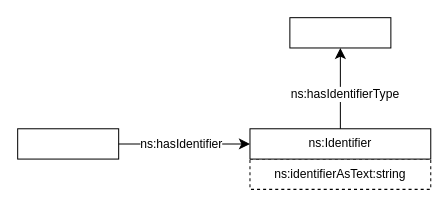
This 448x207 diagram has some shape labels left out. The shapes that lost their labels are listed below. From the top down, each one's centre as x and y in pixels, then its label:
the point at 340,32: ns:IDType
the point at 68,143: owl:Thing
